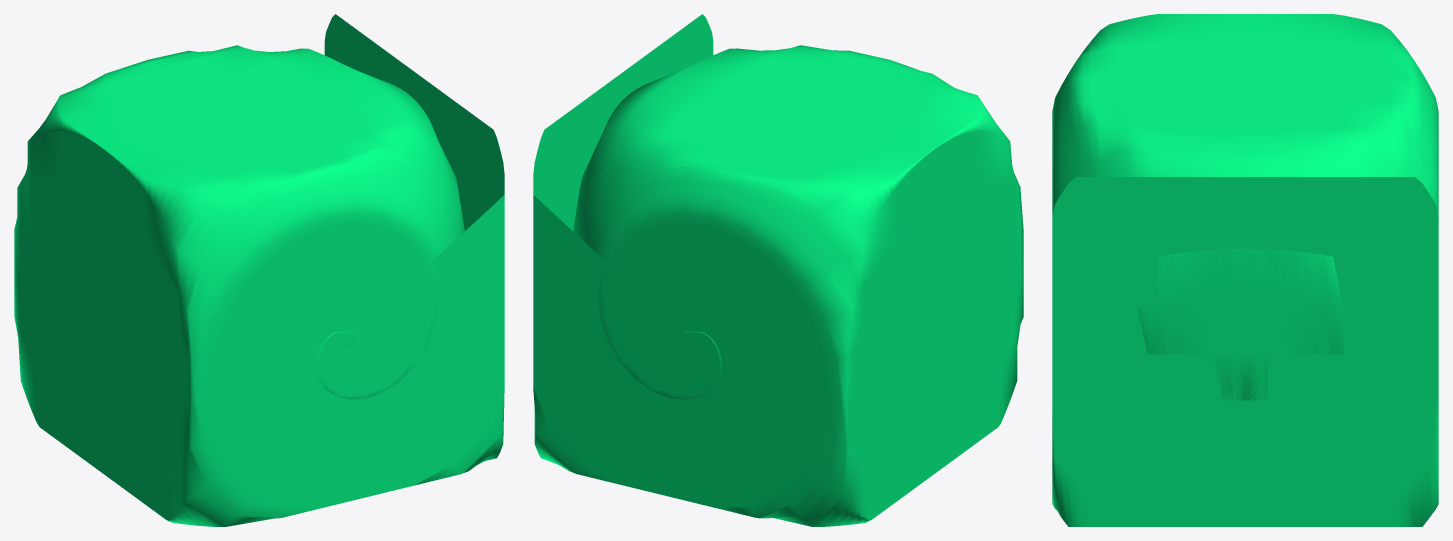
The model's file is quaternion_rotation_sketchfab_animated_1764416335073.glb.
3 views of the same model, side by side, from view 1: azimuth 30°, elevation 25°; view 2: azimuth 150°, elevation 25°; view 3: azimuth 270°, elevation 25° (orthographic). The views are drawn at different scales.
Visible parts, largest first — view 1: MathShape; view 2: MathShape; view 3: MathShape.
Boxes of the visible parts, x1,y1,x2,y2 form: MathShape: (14,14,504,526); MathShape: (533,14,1023,526); MathShape: (1052,14,1438,526).
Bounding box in the file's own units: 2000 × 2000 × 2000.
